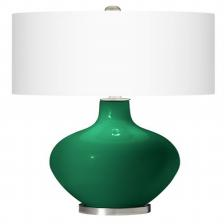green: (50, 101, 180, 208)
